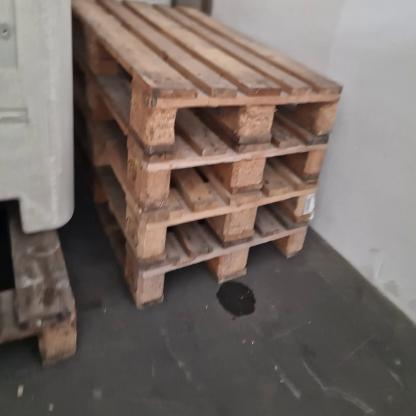BoxFace: (72, 0, 348, 157), (74, 63, 334, 217), (77, 120, 323, 272), (78, 171, 313, 310)
